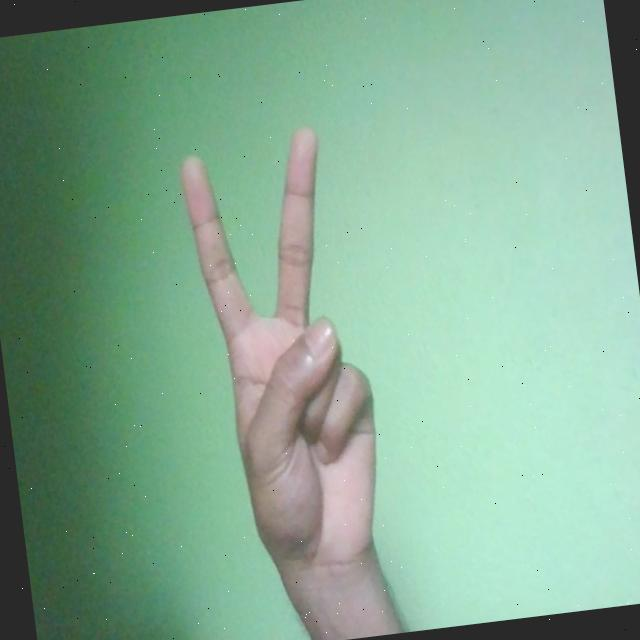Fist: (177, 120, 396, 594)
